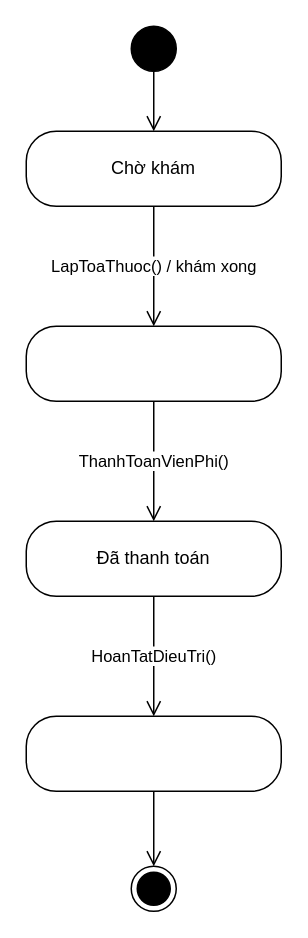
The diagram is 308 pixels wide and 938 high, and some of its shapes have lost their labels. The centre of each missing label's shape, as x and y in pixels:
Hoàn tất: the point at 153,753
Đã khám: the point at 153,363
